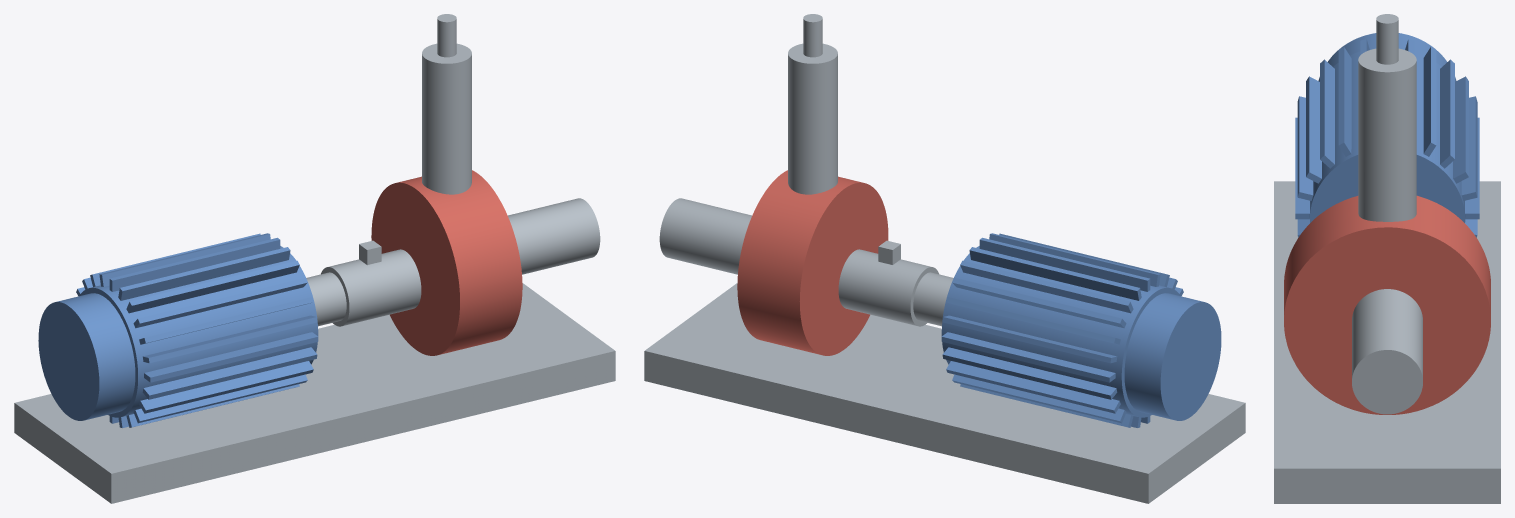
Rendered from pump-unit-lod1.glb.
The picture shows the model from 3 angles, left to right: view 1: azimuth 30°, elevation 25°; view 2: azimuth 150°, elevation 25°; view 3: azimuth 270°, elevation 25°; orthographic projection. The views are drawn at different scales.
Parts seen in each view (by area): view 1: frame, motor, pump, fan, outlet, inlet, bearing, coupling, sensor-p; view 2: frame, motor, pump, fan, outlet, inlet, bearing, coupling, sensor-p; view 3: frame, pump, motor, outlet, inlet, sensor-p, fan.
Boxes of the visible parts, x1,y1,x2,y2 form: frame: [14, 283, 615, 503]; motor: [76, 233, 318, 427]; pump: [371, 170, 522, 355]; fan: [38, 293, 135, 420]; outlet: [422, 43, 471, 194]; inlet: [508, 198, 600, 274]; bearing: [321, 249, 421, 326]; coupling: [306, 272, 346, 326]; sensor-p: [437, 14, 456, 57]; frame: [644, 283, 1245, 503]; motor: [941, 233, 1183, 427]; pump: [737, 170, 888, 355]; fan: [1124, 293, 1221, 420]; outlet: [788, 43, 837, 194]; inlet: [659, 198, 751, 274]; bearing: [838, 249, 938, 326]; coupling: [913, 272, 953, 326]; sensor-p: [803, 14, 822, 57]; frame: [1274, 181, 1500, 503]; pump: [1284, 195, 1490, 414]; motor: [1295, 39, 1479, 237]; outlet: [1358, 48, 1416, 221]; inlet: [1352, 289, 1422, 414]; sensor-p: [1376, 14, 1398, 64]; fan: [1318, 33, 1456, 81].
Size of the model in its own units: 2.17 by 1.42 by 0.7.
